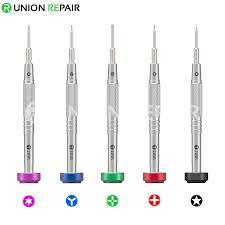screwdriver: (15, 22, 41, 183), (141, 24, 166, 183), (99, 24, 124, 183), (57, 23, 82, 182), (184, 23, 208, 183)
